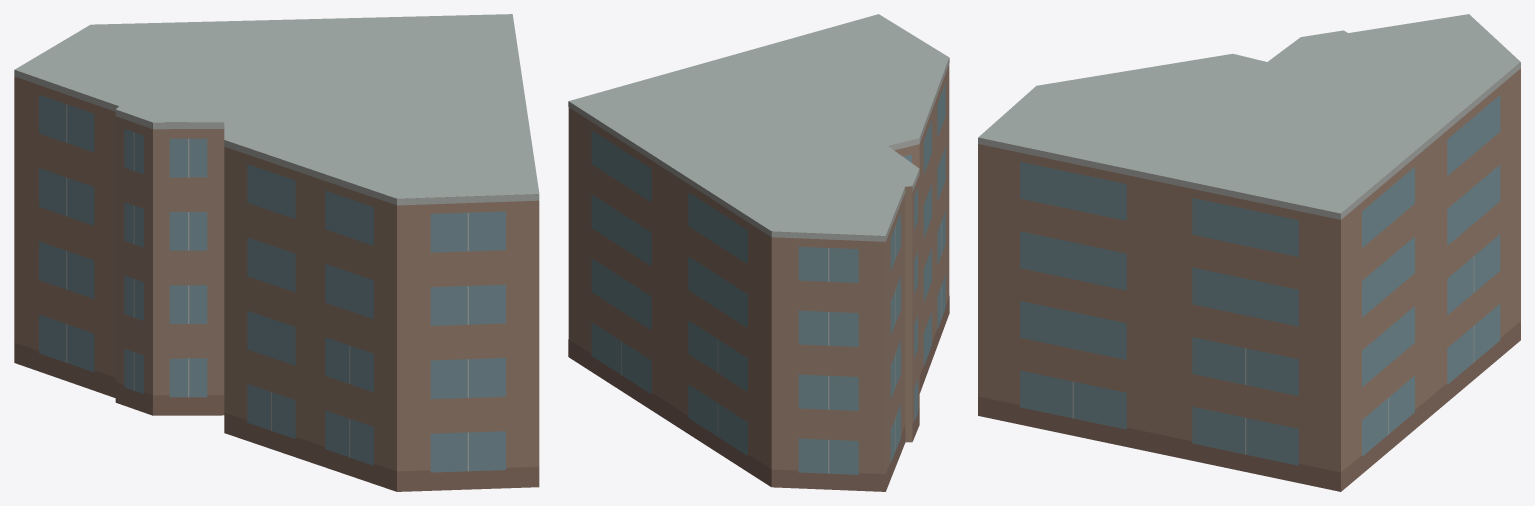
The model's file is survey-upis-32951029.glb.
The picture shows the model from 3 angles, left to right: view 1: azimuth 30°, elevation 25°; view 2: azimuth 150°, elevation 25°; view 3: azimuth 270°, elevation 25°; orthographic projection. The views are drawn at different scales.
Visible parts, largest first — view 1: survey-upis-32951029.tmp; view 2: survey-upis-32951029.tmp; view 3: survey-upis-32951029.tmp.
Part boxes in pixels (x1,y1,x2,y2): survey-upis-32951029.tmp: (14,14,539,491); survey-upis-32951029.tmp: (568,14,949,491); survey-upis-32951029.tmp: (978,14,1520,491).
Bounding box in the file's own units: 16.39 × 10.65 × 18.83.
